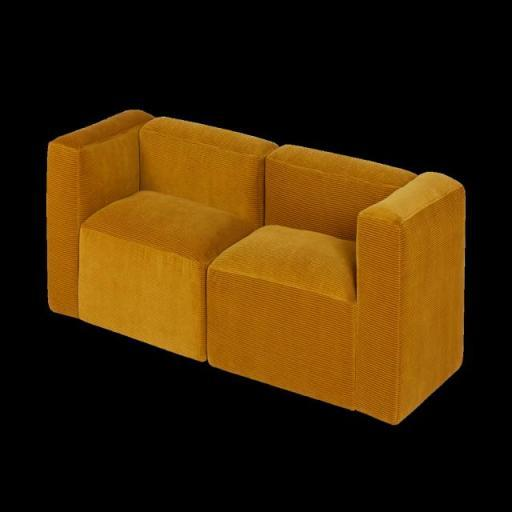sofa: (22, 98, 488, 460)
